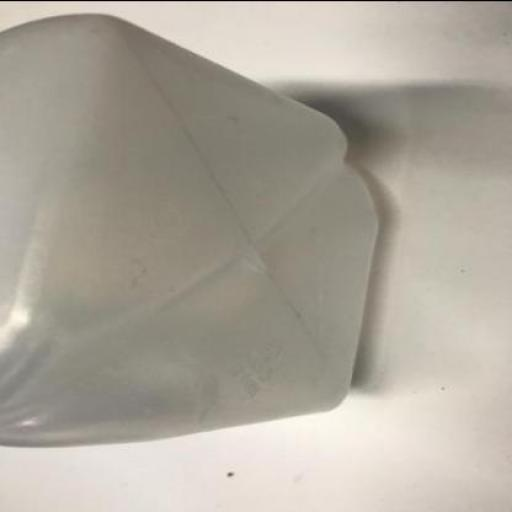plastic: (0, 11, 379, 446)
